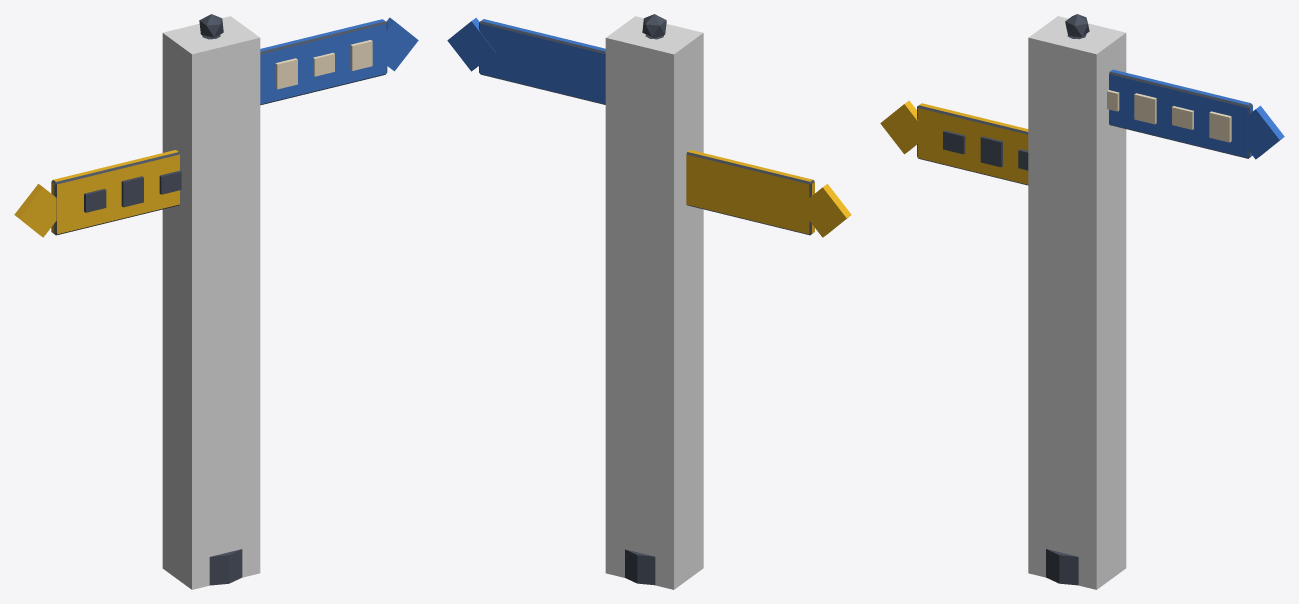
File: prop_sign_a.glb
3 views of the same model, side by side, from view 1: azimuth 30°, elevation 25°; view 2: azimuth 150°, elevation 25°; view 3: azimuth 330°, elevation 25° (orthographic).
Parts seen in each view (by area): view 1: COL_prop_sign_a_1, prop_sign_a; view 2: COL_prop_sign_a_1, prop_sign_a; view 3: COL_prop_sign_a_1, prop_sign_a.
Part boxes in pixels (bbox=[...]): COL_prop_sign_a_1: bbox=[162, 16, 260, 589]; prop_sign_a: bbox=[14, 14, 418, 585]; COL_prop_sign_a_1: bbox=[605, 16, 703, 589]; prop_sign_a: bbox=[447, 14, 851, 585]; COL_prop_sign_a_1: bbox=[1028, 16, 1126, 589]; prop_sign_a: bbox=[880, 14, 1284, 585].
Size of the model in its own units: 2.34 by 3.12 by 0.36.
